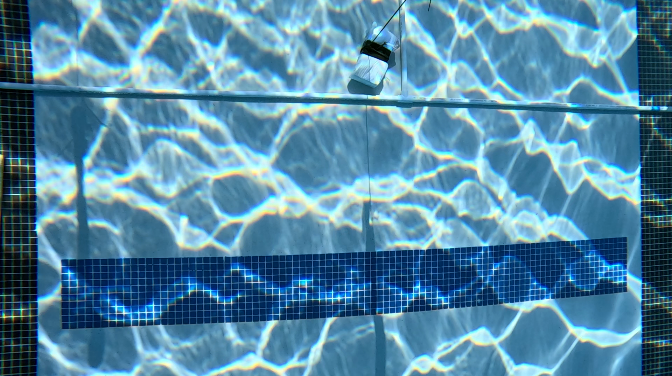sandbag: (352, 20, 399, 83)
